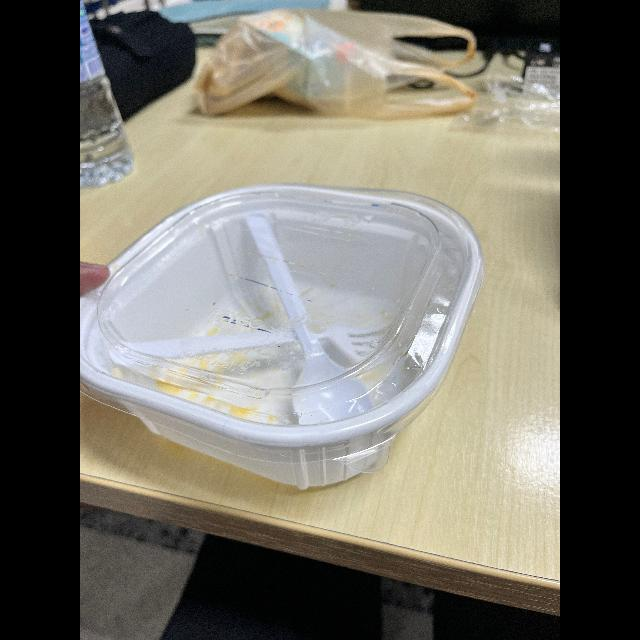plastic_box: (80, 178, 483, 494)
